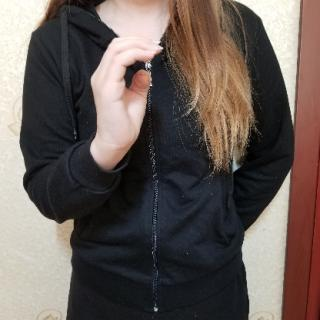JEEM: (86, 34, 170, 164)
